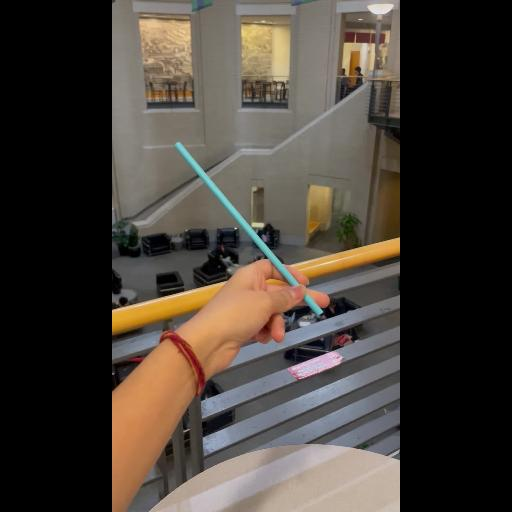straw: (174, 140, 322, 318)
